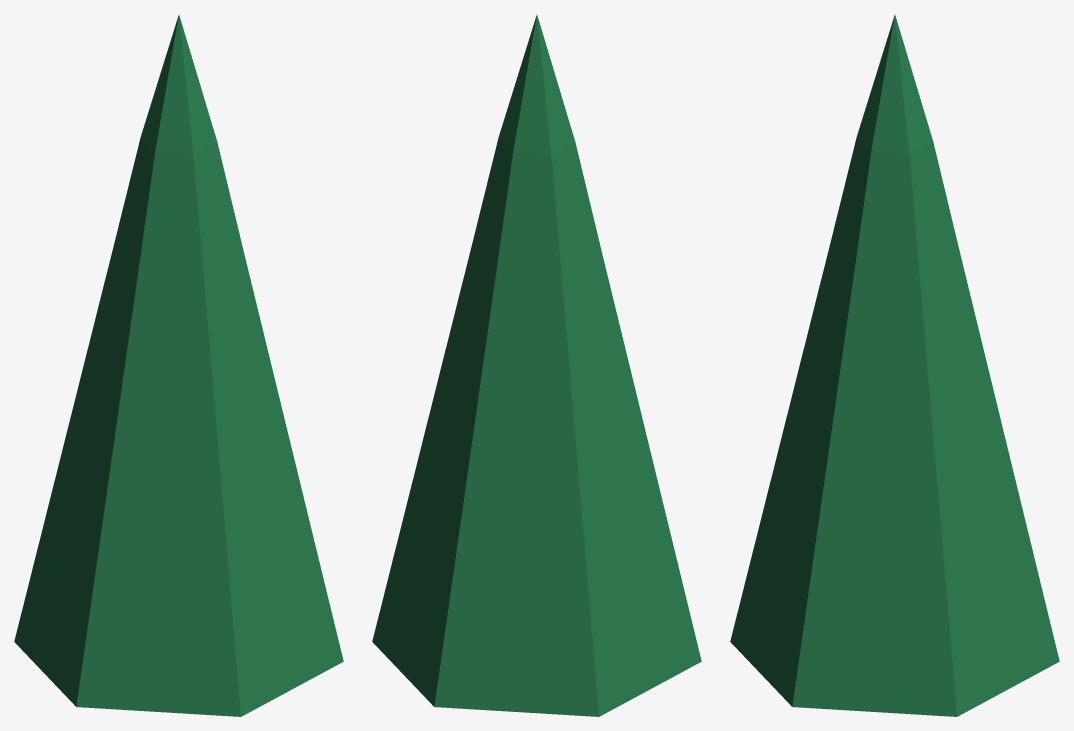
Rendered from Vegetation_Vine_Tree_Thorns_Spike_Green_Small_01.FBX.
3 views of the same model, side by side, from view 1: azimuth 30°, elevation 25°; view 2: azimuth 150°, elevation 25°; view 3: azimuth 270°, elevation 25° (orthographic).
Visible parts, largest first — view 1: Vegetation_Vine_Tree_Thorns_Spike_Green_Small_01; view 2: Vegetation_Vine_Tree_Thorns_Spike_Green_Small_01; view 3: Vegetation_Vine_Tree_Thorns_Spike_Green_Small_01.
Boxes of the visible parts, x1,y1,x2,y2 form: Vegetation_Vine_Tree_Thorns_Spike_Green_Small_01: (14,15,343,716); Vegetation_Vine_Tree_Thorns_Spike_Green_Small_01: (372,15,701,716); Vegetation_Vine_Tree_Thorns_Spike_Green_Small_01: (730,15,1059,716).
Size of the model in its own units: 214 by 487 by 228.
